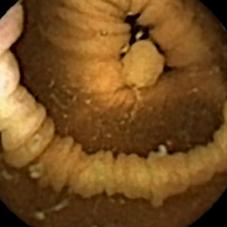Polyp: (114, 36, 168, 94)
